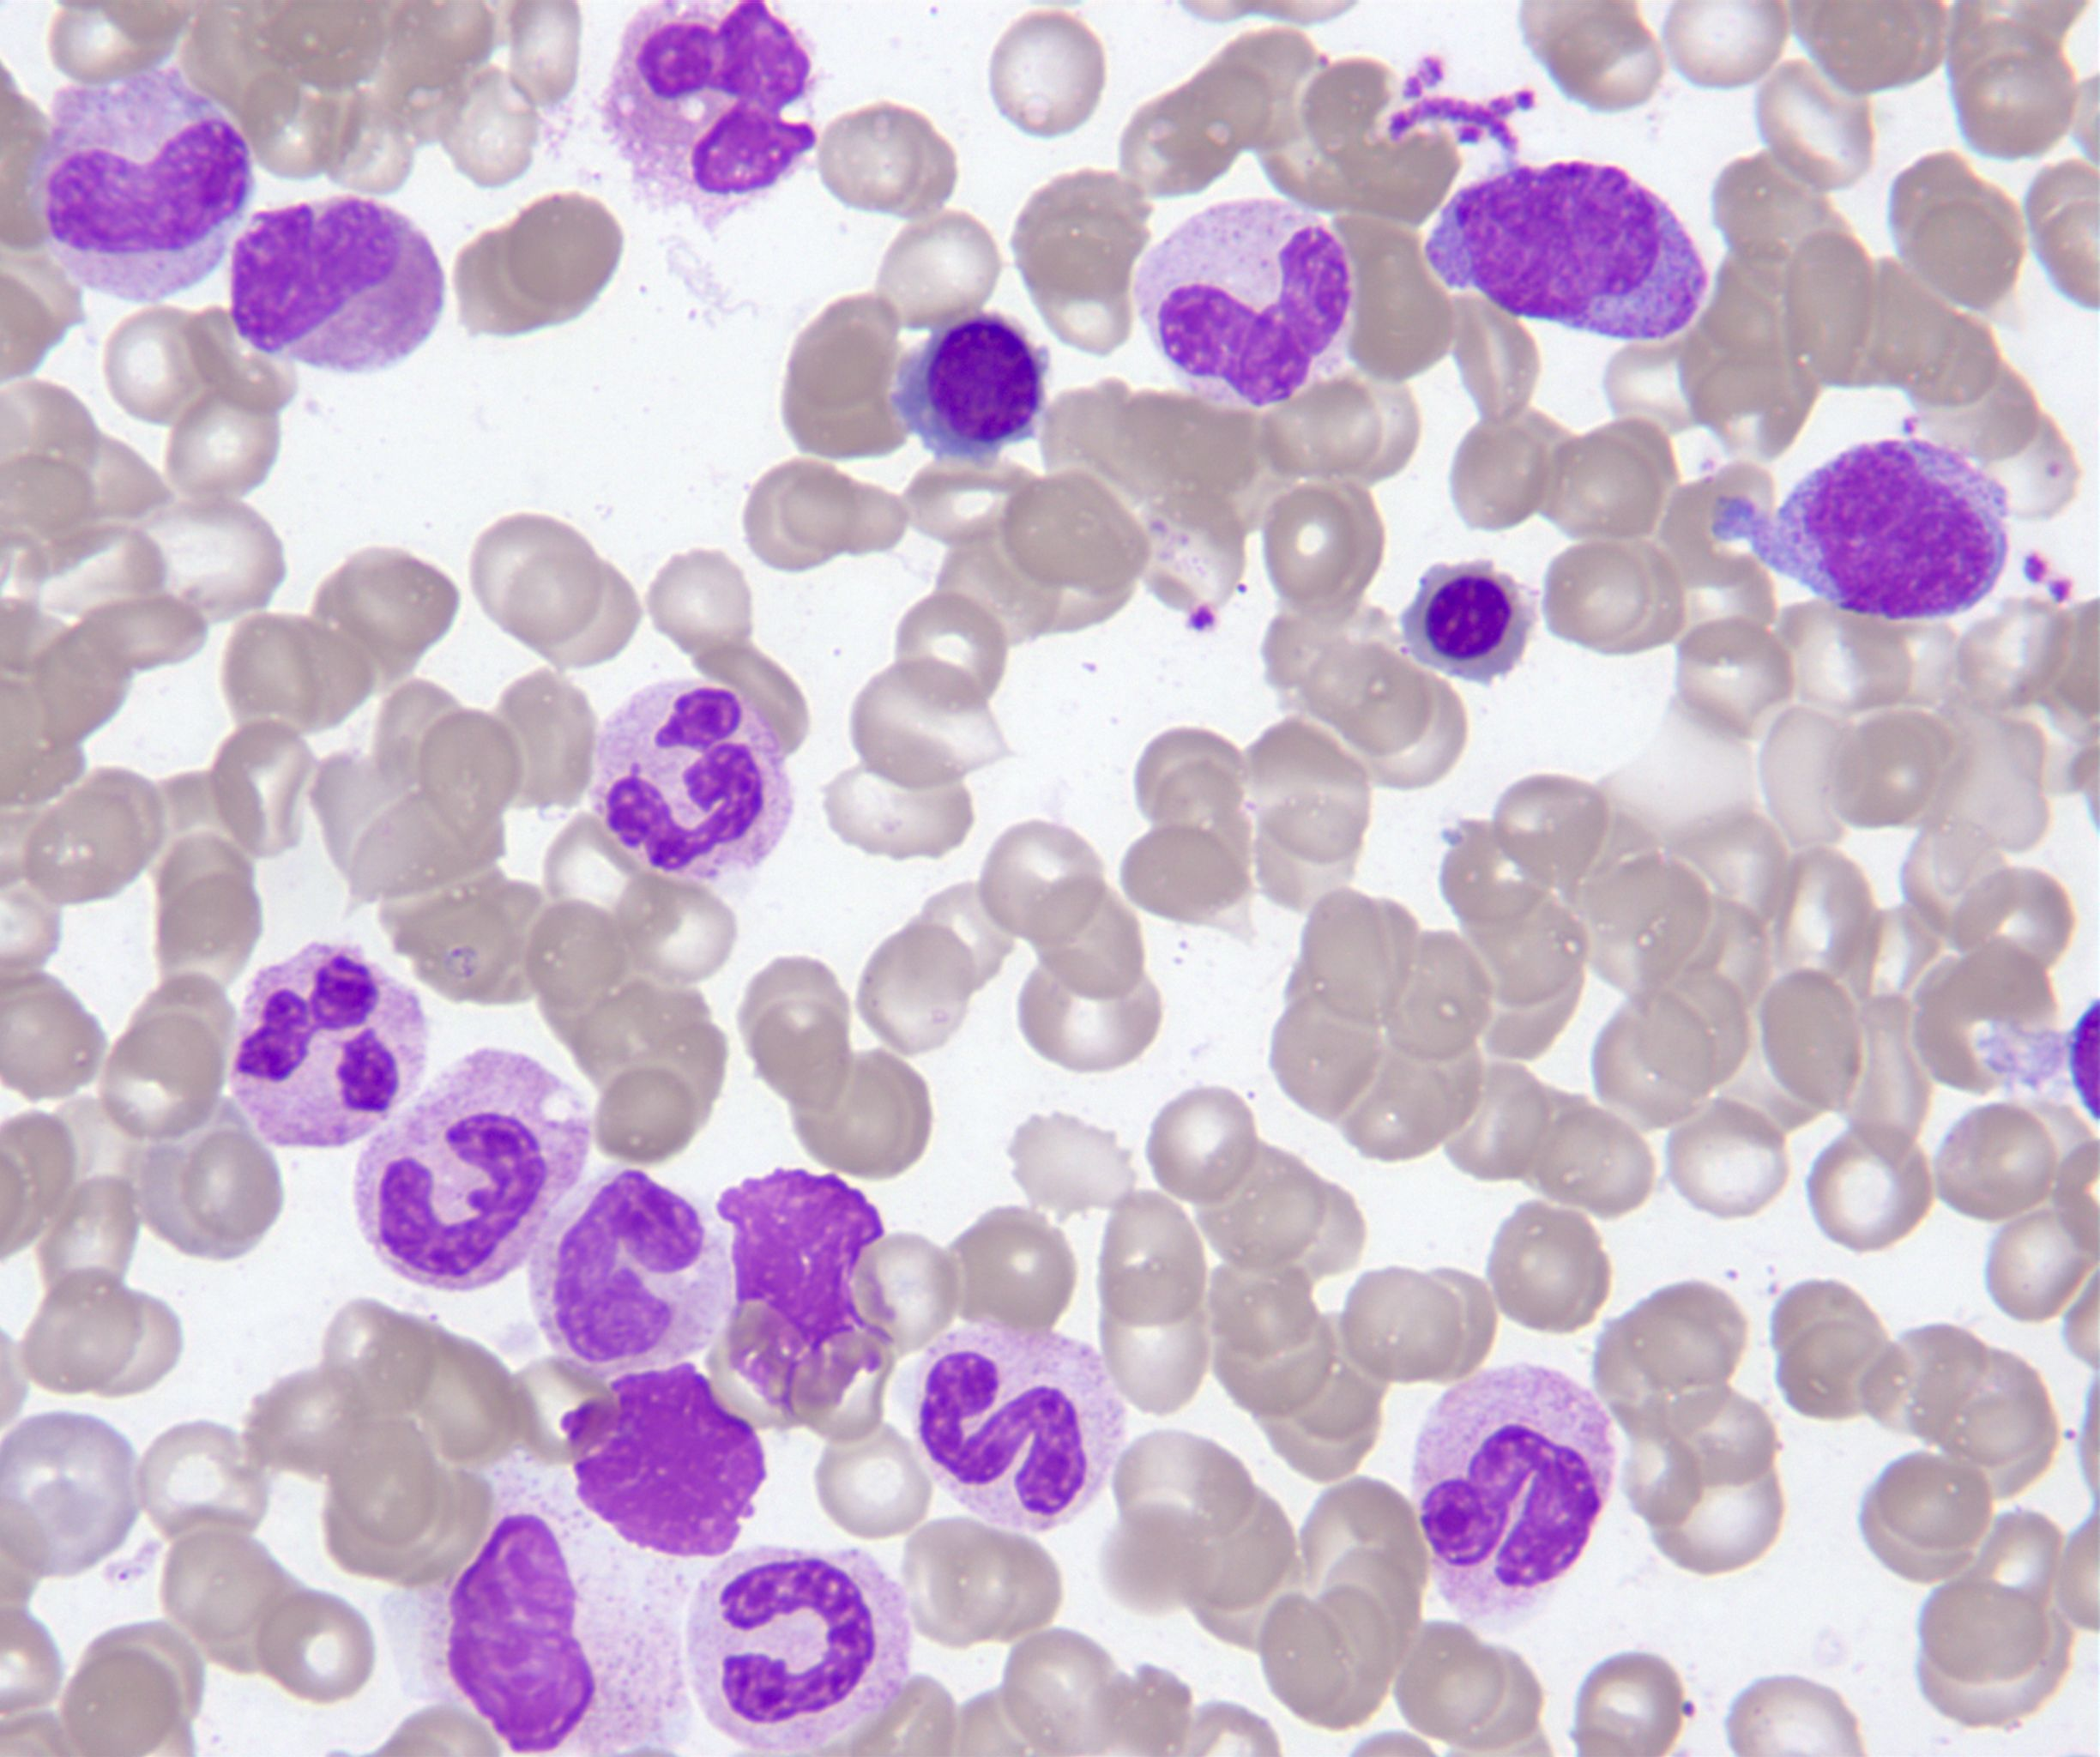1: (1416, 150, 1718, 349), (1751, 431, 2013, 626)
23: (886, 304, 1064, 464)
24: (1394, 555, 1556, 694)
4: (31, 65, 256, 312), (223, 187, 457, 380)
5: (344, 1042, 600, 1296), (1406, 1361, 1624, 1624), (595, 0, 827, 232), (907, 1310, 1135, 1544), (1122, 195, 1360, 417), (685, 1537, 914, 1757), (520, 1164, 745, 1371)
6: (583, 670, 797, 890), (225, 932, 426, 1153)
x: (422, 1471, 705, 1757), (712, 1160, 898, 1422), (555, 1363, 769, 1563)
